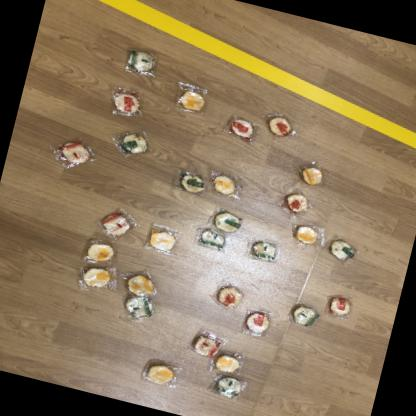green_setoshio: (114, 128, 154, 161), (119, 292, 160, 324), (210, 372, 248, 404), (325, 235, 361, 266), (172, 168, 209, 198), (192, 224, 229, 254), (210, 207, 247, 236), (124, 48, 158, 78), (288, 301, 322, 330), (247, 237, 280, 265)
red_setoshio: (98, 206, 138, 242), (56, 136, 96, 172), (108, 86, 148, 121), (240, 306, 275, 340), (223, 114, 262, 144), (278, 188, 314, 220), (262, 112, 298, 142), (188, 331, 222, 362), (211, 282, 246, 312), (326, 293, 354, 321)
yellow_setoshio: (77, 262, 119, 296), (206, 169, 247, 203), (120, 267, 162, 299), (172, 83, 211, 117), (144, 223, 182, 257), (140, 358, 179, 390), (83, 236, 118, 268), (290, 222, 326, 250), (296, 162, 328, 190), (213, 350, 244, 376)
